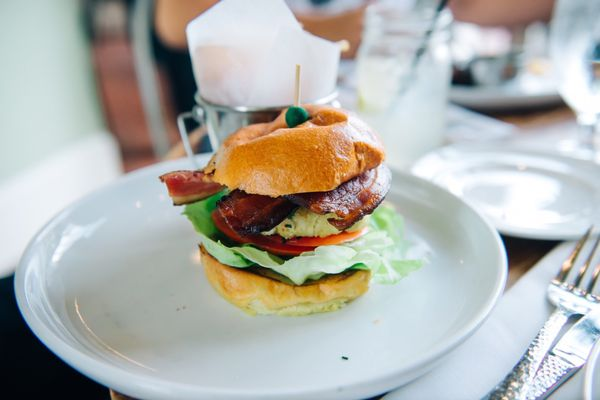burger: (486, 222, 600, 396)
pizza: (181, 2, 341, 154), (354, 0, 453, 165)
soup: (159, 103, 393, 317)
